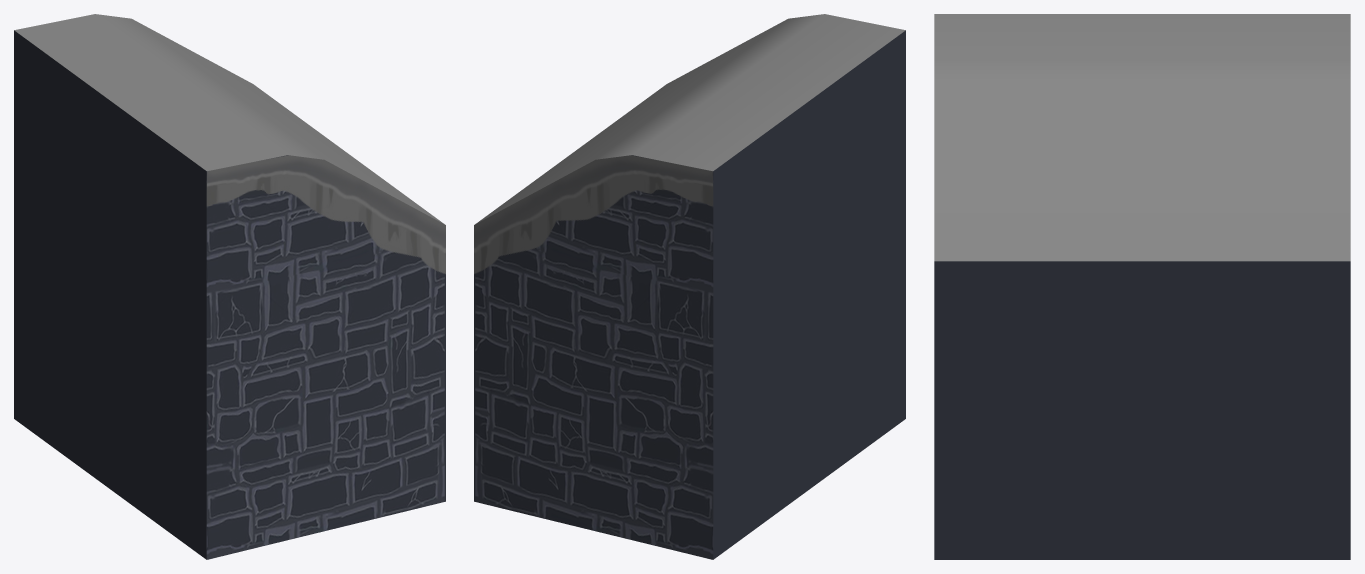
File: Crypt_R_6.fbx
The picture shows the model from 3 angles, left to right: view 1: azimuth 30°, elevation 25°; view 2: azimuth 150°, elevation 25°; view 3: azimuth 270°, elevation 25°; orthographic projection. The views are drawn at different scales.
Parts seen in each view (by area): view 1: Crypt_R_6; view 2: Crypt_R_6; view 3: Crypt_R_6.
Part boxes in pixels (left/top/right/bottom): Crypt_R_6: left=14, top=14, right=445, bottom=559; Crypt_R_6: left=474, top=14, right=905, bottom=559; Crypt_R_6: left=934, top=14, right=1350, bottom=559.
Bounding box in the file's own units: 3.05 × 4.74 × 4.26.
1 material, 1 textured.
